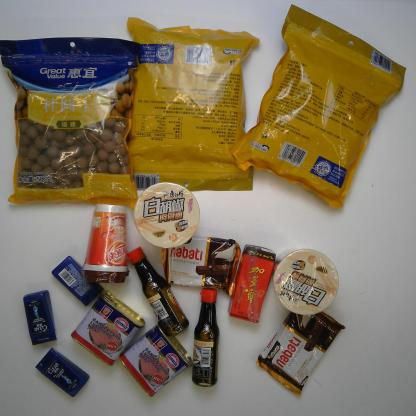Canned Food: (119, 320, 194, 397), (70, 292, 145, 367)
Dessert: (257, 297, 345, 396), (160, 230, 240, 297)
Dried Food: (232, 3, 406, 210), (1, 37, 141, 212), (126, 18, 260, 192)
Drink: (227, 244, 275, 322)
Instant Drink: (81, 204, 130, 283)
Instant Noodles: (132, 182, 200, 248), (272, 248, 338, 315)
Personal Hygiene: (35, 349, 89, 397), (52, 256, 102, 306), (23, 289, 56, 346)
Seasoner: (128, 246, 188, 337), (192, 288, 220, 386)
